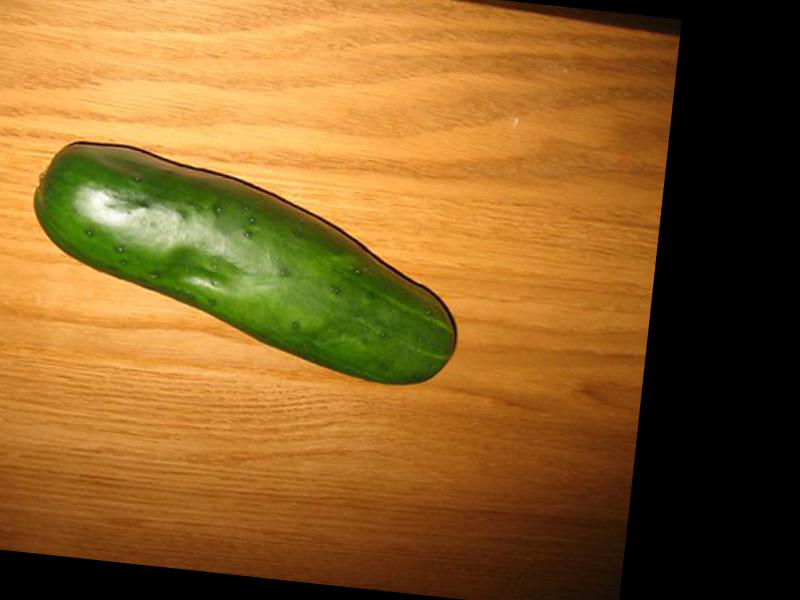Cucumber: (24, 137, 474, 388)
